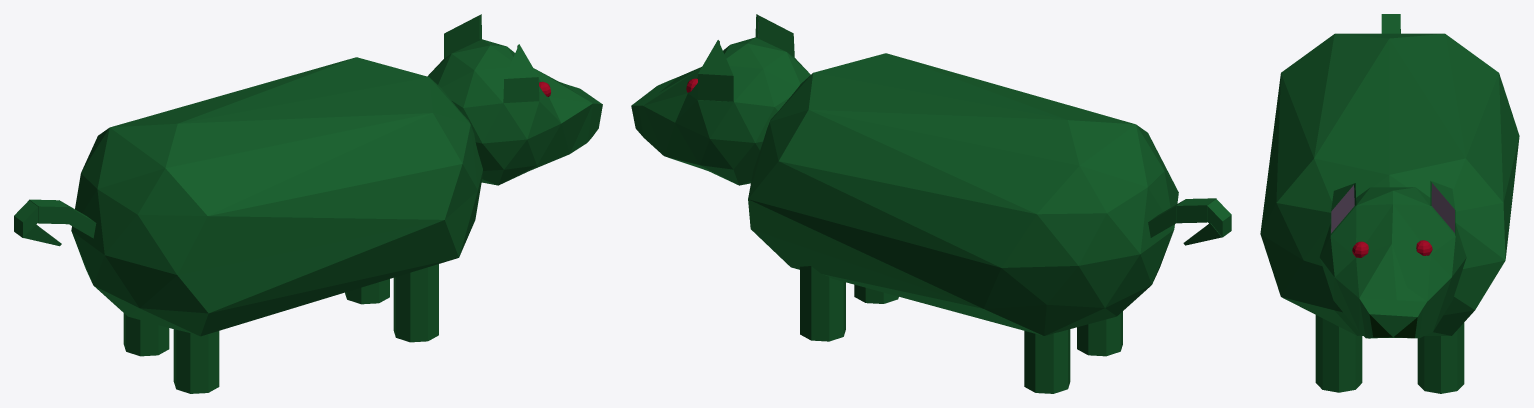
File: ZOMBIG_eyes.fbx
3 views of the same model, side by side, from view 1: azimuth 30°, elevation 25°; view 2: azimuth 150°, elevation 25°; view 3: azimuth 270°, elevation 25° (orthographic).
Parts seen in each view (by area): view 1: Body; view 2: Body; view 3: Body.
Boxes of the visible parts, bbox=[...] form: Body: bbox=[14, 14, 602, 393]; Body: bbox=[631, 14, 1231, 393]; Body: bbox=[1260, 14, 1519, 393].
Size of the model in its own units: 614 by 263 by 241.
